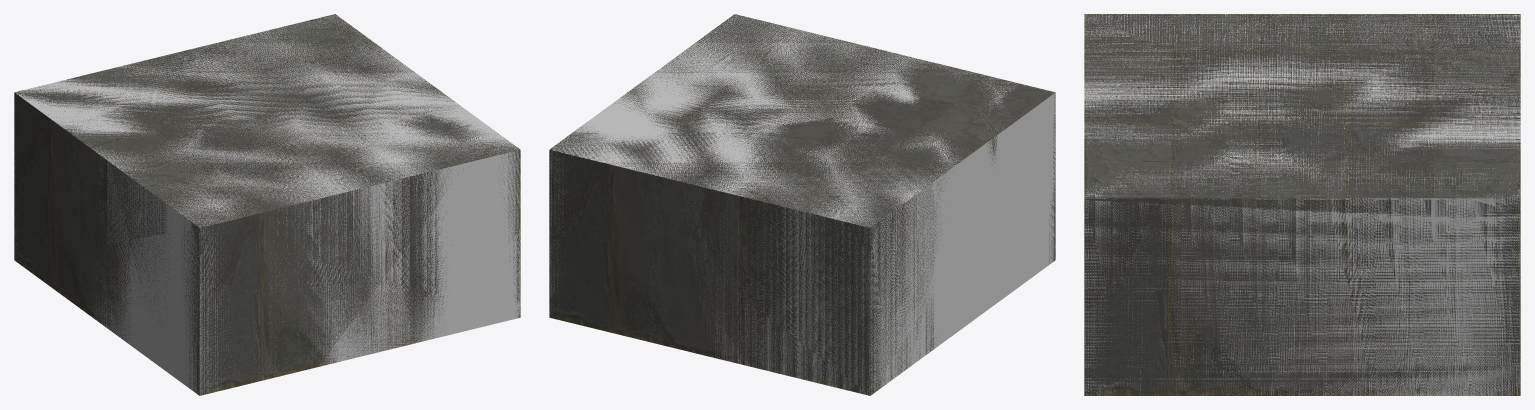
3 views of the same model, side by side, from view 1: azimuth 30°, elevation 25°; view 2: azimuth 150°, elevation 25°; view 3: azimuth 270°, elevation 25° (orthographic). The views are drawn at different scales.
Parts seen in each view (by area): view 1: SM_Floor_2x2, SM_Floor_2x2_ConvexHulls; view 2: SM_Floor_2x2, SM_Floor_2x2_ConvexHulls; view 3: SM_Floor_2x2, SM_Floor_2x2_ConvexHulls.
Boxes of the visible parts, x1,y1,x2,y2 form: SM_Floor_2x2: (14,14,520,395); SM_Floor_2x2_ConvexHulls: (14,14,520,395); SM_Floor_2x2: (549,14,1055,395); SM_Floor_2x2_ConvexHulls: (549,14,1055,395); SM_Floor_2x2: (1084,14,1520,395); SM_Floor_2x2_ConvexHulls: (1084,14,1520,395).
Size of the model in its own units: 200 by 200 by 100.
2 materials, 1 textured.
